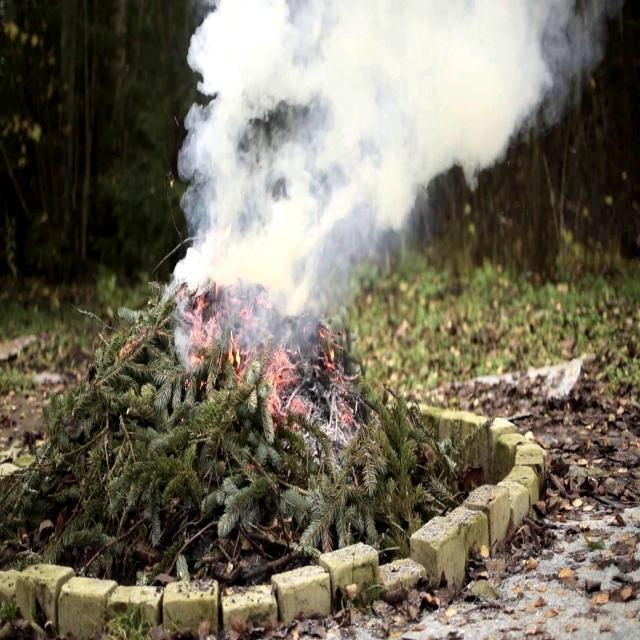Smoke: (165, 0, 545, 283)
